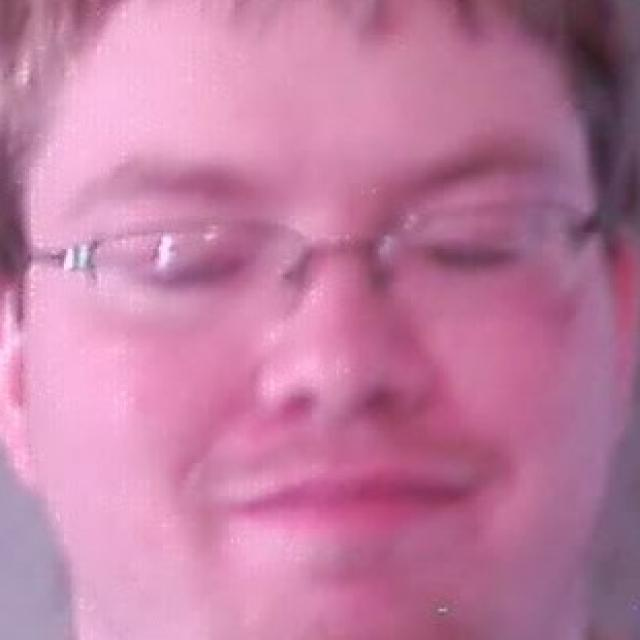Eyeclosed: (418, 223, 517, 279), (146, 250, 248, 295)
